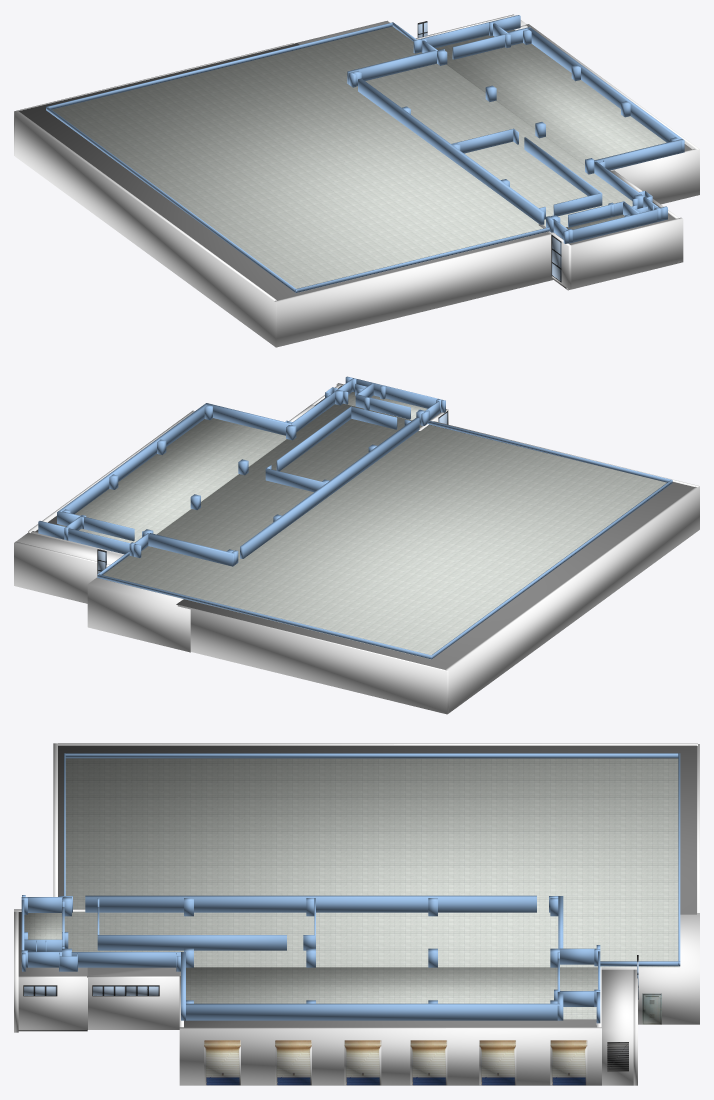
Rendered from wfa_2f_mini.gltf.
3 views of the same model, one above another, from view 1: azimuth 30°, elevation 25°; view 2: azimuth 150°, elevation 25°; view 3: azimuth 270°, elevation 25° (orthographic). The views are drawn at different scales.
Parts seen in each view (by area): view 1: wfa_dimian_2f, wfa_waiguan_2f_2, wfa_waiguan_2f_25, wfa_waiguan_2f_1, wfa_waiguan_2f_8, wfa_qiang_2f_14, wfa_waiguan_2f_7, wfa_qiang_2f_31, wfa_qiang_2f, wfa_qiang_2f_2, wfa_qiang_2f_1, wfa_qiang_2f_7 (+12 smaller); view 2: wfa_dimian_2f, wfa_waiguan_2f_25, wfa_waiguan_2f_3, wfa_waiguan_2f_1, wfa_waiguan_2f_22, wfa_waiguan_2f_19, wfa_qiang_2f_14, wfa_qiang_2f_31, wfa_qiang_2f, wfa_qiang_2f_7, wfa_qiang_2f_2, wfa_qiang_2f_1 (+11 smaller); view 3: wfa_dimian_2f, wfa_waiguan_2f_27, wfa_waiguan_2f_1, wfa_qiang_2f_14, wfa_qiang_2f_31, wfa_waiguan_2f_30, wfa_waiguan_2f_22, wfa_waiguan_2f, wfa_qiang_2f_2, wfa_waiguan_2f_29, wfa_waiguan_2f_31, wfa_qiang_2f_11 (+18 smaller).
Boxes of the visible parts, bbox=[...] form: wfa_dimian_2f: bbox=[52, 26, 666, 288]; wfa_waiguan_2f_2: bbox=[274, 233, 555, 347]; wfa_waiguan_2f_25: bbox=[14, 110, 276, 347]; wfa_waiguan_2f_1: bbox=[19, 43, 549, 300]; wfa_waiguan_2f_8: bbox=[566, 217, 683, 290]; wfa_qiang_2f_14: bbox=[358, 78, 544, 224]; wfa_waiguan_2f_7: bbox=[611, 149, 699, 204]; wfa_qiang_2f_31: bbox=[528, 28, 684, 152]; wfa_qiang_2f: bbox=[46, 22, 392, 109]; wfa_qiang_2f_2: bbox=[46, 107, 297, 292]; wfa_qiang_2f_1: bbox=[295, 227, 549, 292]; wfa_qiang_2f_7: bbox=[347, 50, 436, 84]; wfa_dimian_2f: bbox=[58, 392, 666, 659]; wfa_waiguan_2f_25: bbox=[445, 486, 699, 713]; wfa_waiguan_2f_3: bbox=[178, 605, 448, 714]; wfa_waiguan_2f_1: bbox=[176, 425, 694, 669]; wfa_waiguan_2f_22: bbox=[87, 577, 190, 652]; wfa_waiguan_2f_19: bbox=[14, 541, 109, 603]; wfa_qiang_2f_14: bbox=[240, 417, 419, 558]; wfa_qiang_2f_31: bbox=[58, 404, 207, 514]; wfa_qiang_2f: bbox=[97, 574, 431, 659]; wfa_qiang_2f_7: bbox=[148, 533, 234, 566]; wfa_qiang_2f_2: bbox=[431, 480, 671, 658]; wfa_qiang_2f_1: bbox=[427, 420, 672, 483]; wfa_dimian_2f: bbox=[24, 758, 679, 1019]; wfa_waiguan_2f_27: bbox=[179, 1027, 601, 1085]; wfa_waiguan_2f_1: bbox=[58, 745, 696, 914]; wfa_qiang_2f_14: bbox=[85, 895, 536, 912]; wfa_qiang_2f_31: bbox=[186, 1003, 559, 1020]; wfa_waiguan_2f_30: bbox=[87, 976, 179, 1029]; wfa_waiguan_2f_22: bbox=[601, 913, 699, 1024]; wfa_waiguan_2f: bbox=[87, 967, 596, 1027]; wfa_qiang_2f_2: bbox=[65, 753, 678, 758]; wfa_waiguan_2f_29: bbox=[18, 976, 87, 1029]; wfa_waiguan_2f_31: bbox=[601, 969, 633, 1085]; wfa_qiang_2f_11: bbox=[97, 935, 286, 950].
Bounding box in the file's own units: 148 × 17.6 × 150.
9 materials, 5 textured.
